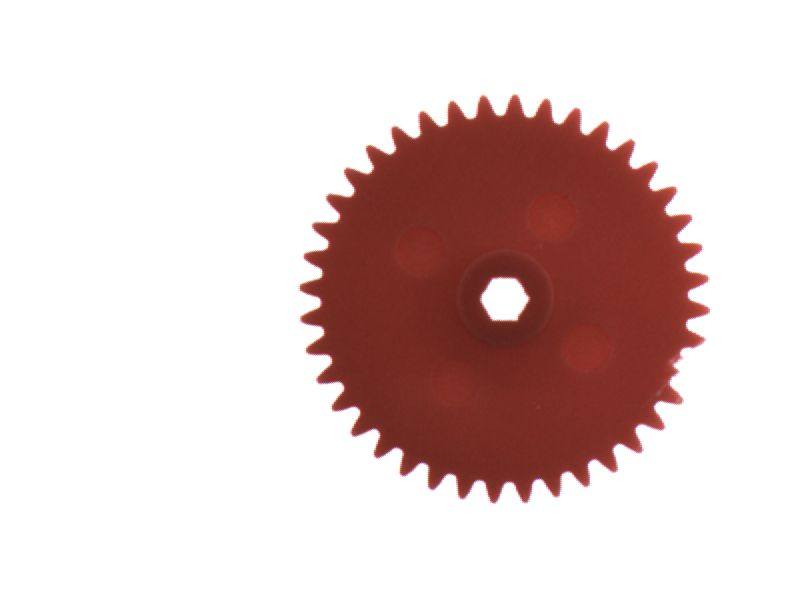defect_lack: (654, 336, 715, 402)
